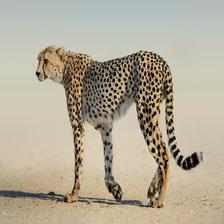Cheetah: (36, 45, 205, 207)
